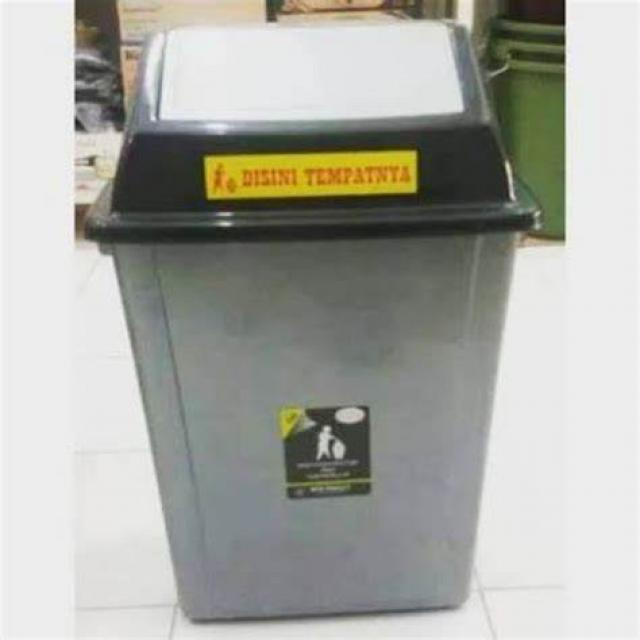garbage container: (72, 5, 604, 622)
